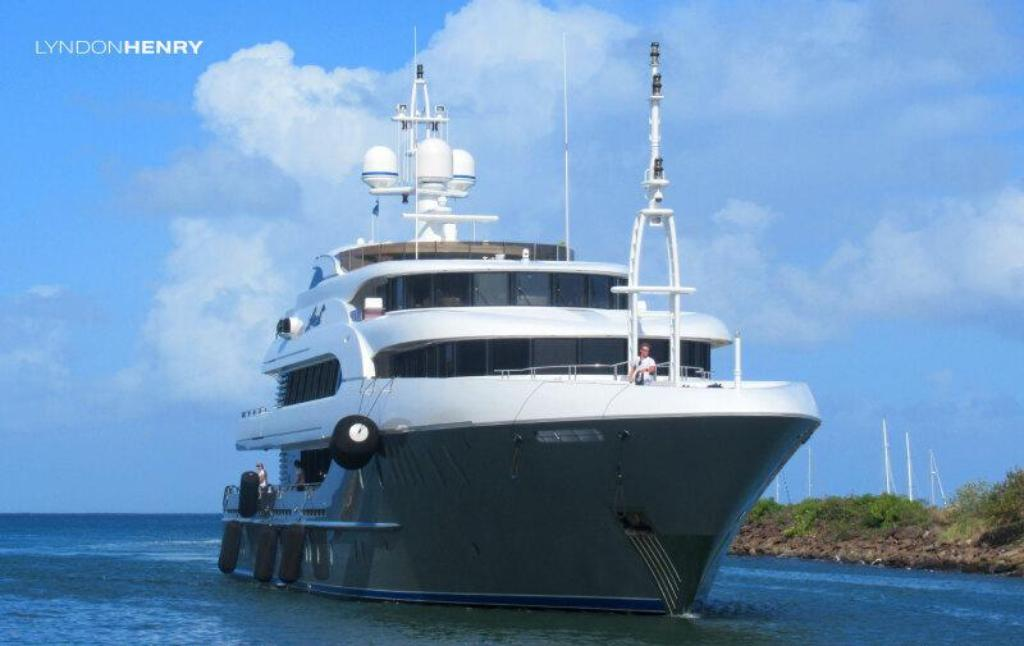PassengerShip: (210, 36, 826, 630)
